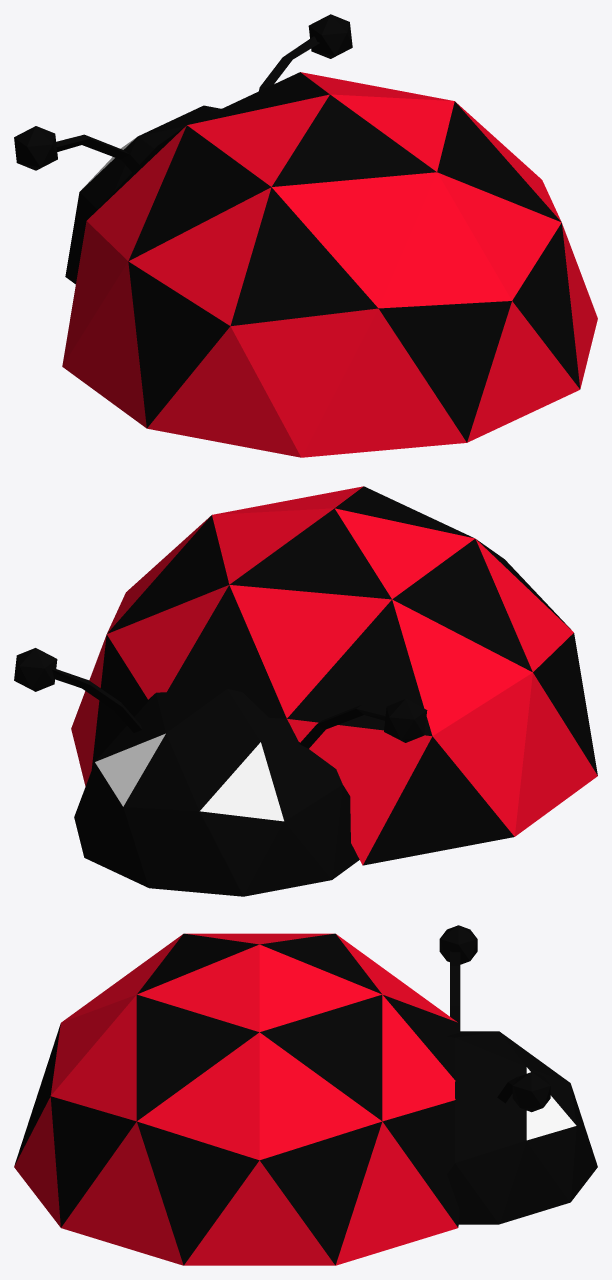
File: LadyBug.dae
The picture shows the model from 3 angles, top to bottom: view 1: azimuth 30°, elevation 25°; view 2: azimuth 150°, elevation 25°; view 3: azimuth 270°, elevation 25°; orthographic projection. The views are drawn at different scales.
Visible parts, largest first — view 1: LadyBugWingR, LadyBugWingL, LadybugHead; view 2: LadyBugWingR, LadybugHead, LadyBugWingL; view 3: LadyBugWingL, LadybugHead, LadyBugWingR.
Part boxes in pixels (box(x1,y1,x2,y2)): LadyBugWingR: box(62, 94, 511, 457); LadyBugWingL: box(188, 72, 597, 442); LadybugHead: box(14, 14, 352, 284); LadyBugWingR: box(229, 508, 597, 865); LadybugHead: box(14, 648, 427, 896); LadyBugWingL: box(71, 486, 474, 786); LadyBugWingL: box(14, 933, 459, 1265); LadybugHead: box(439, 925, 597, 1224); LadyBugWingR: box(14, 933, 457, 1165).
Bounding box in the file's own units: 1.9 × 2.38 × 1.
